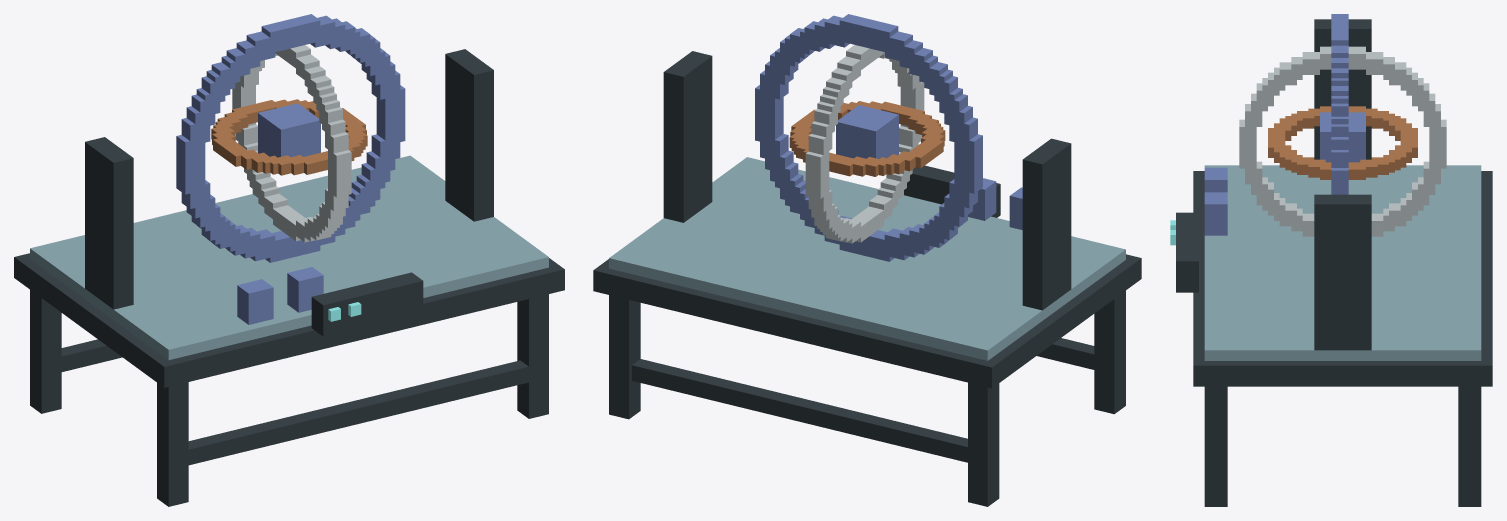
The model's file is physics_station_t7.glb.
3 renders of one model, left to right at view 1: azimuth 30°, elevation 25°; view 2: azimuth 150°, elevation 25°; view 3: azimuth 270°, elevation 25°, orthographic.
Visible parts, largest first — view 1: physics_station_t7/work_surface, physics_station_t7/frame, physics_station_t7/field_cage; view 2: physics_station_t7/work_surface, physics_station_t7/frame, physics_station_t7/field_cage; view 3: physics_station_t7/work_surface, physics_station_t7/field_cage, physics_station_t7/frame.
Part boxes in pixels (box(x1,y1,x2,y2)): physics_station_t7/work_surface: box(30, 49, 548, 360); physics_station_t7/frame: box(14, 253, 564, 506); physics_station_t7/field_cage: box(176, 14, 405, 262); physics_station_t7/work_surface: box(609, 51, 1125, 360); physics_station_t7/frame: box(593, 254, 1141, 506); physics_station_t7/field_cage: box(755, 14, 982, 261); physics_station_t7/work_surface: box(1170, 19, 1481, 360); physics_station_t7/field_cage: box(1239, 14, 1446, 236); physics_station_t7/frame: box(1193, 171, 1492, 506).
Size of the model in its own units: 2.5 by 2.31 by 1.75.
